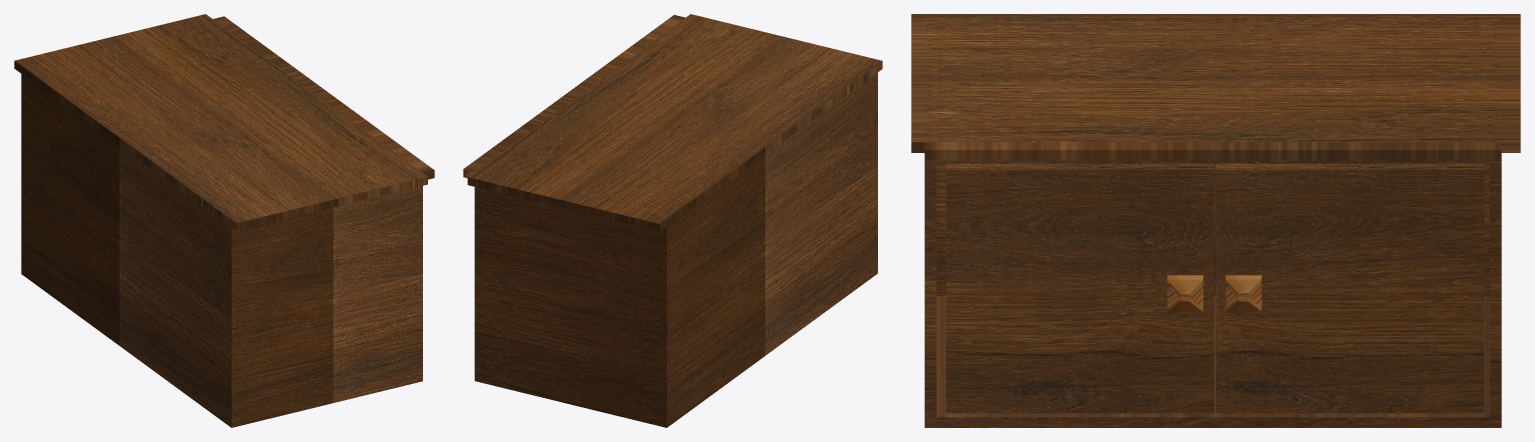
The model's file is mesaCompletamenteCuerda.fbx.
3 renders of one model, left to right at view 1: azimuth 30°, elevation 25°; view 2: azimuth 150°, elevation 25°; view 3: azimuth 270°, elevation 25°, orthographic. The views are drawn at different scales.
Parts seen in each view (by area): view 1: Cube; view 2: Cube; view 3: Cube.
Boxes of the visible parts, box(x1,y1,x2,y2) form: Cube: box(14, 14, 434, 427); Cube: box(463, 14, 882, 427); Cube: box(911, 14, 1520, 427).
Bounding box in the file's own units: 212 × 208 × 402.
